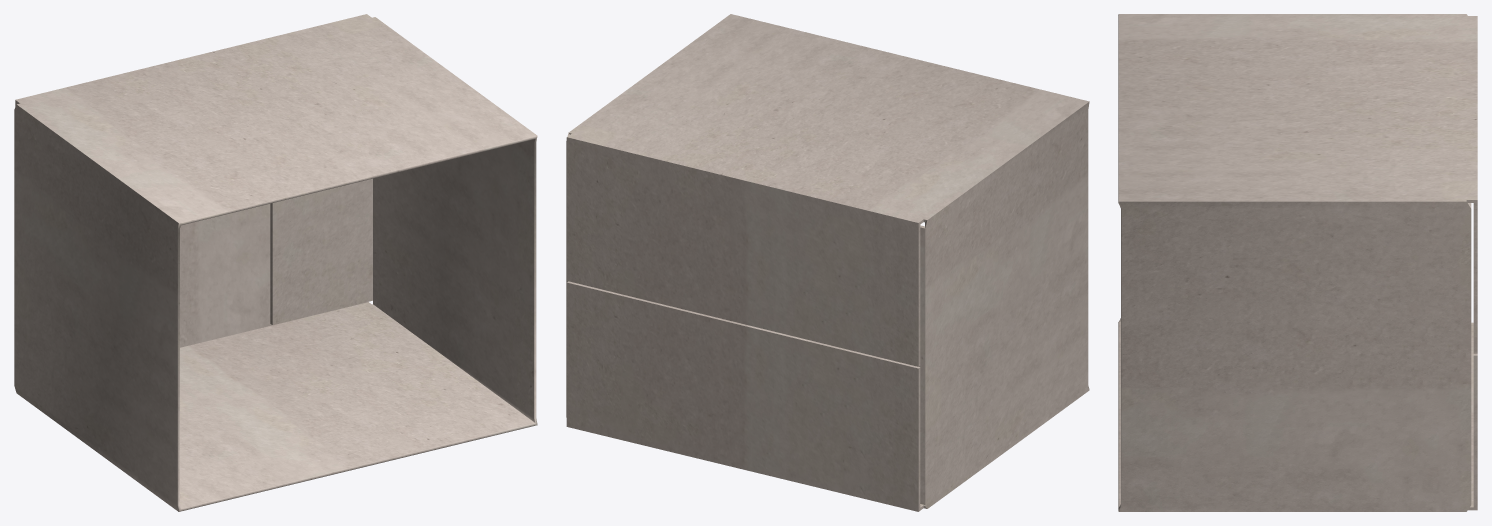
The model's file is MeshBox_16_0.obj.
3 views of the same model, side by side, from view 1: azimuth 30°, elevation 25°; view 2: azimuth 150°, elevation 25°; view 3: azimuth 270°, elevation 25° (orthographic). The views are drawn at different scales.
Parts seen in each view (by area): view 1: Box_16; view 2: Box_16; view 3: Box_16.
Boxes of the visible parts, x1,y1,x2,y2 form: Box_16: (14,14,537,511); Box_16: (566,14,1089,511); Box_16: (1118,14,1477,511).
Size of the model in its own units: 0.3351 by 0.2585 by 0.2711.
